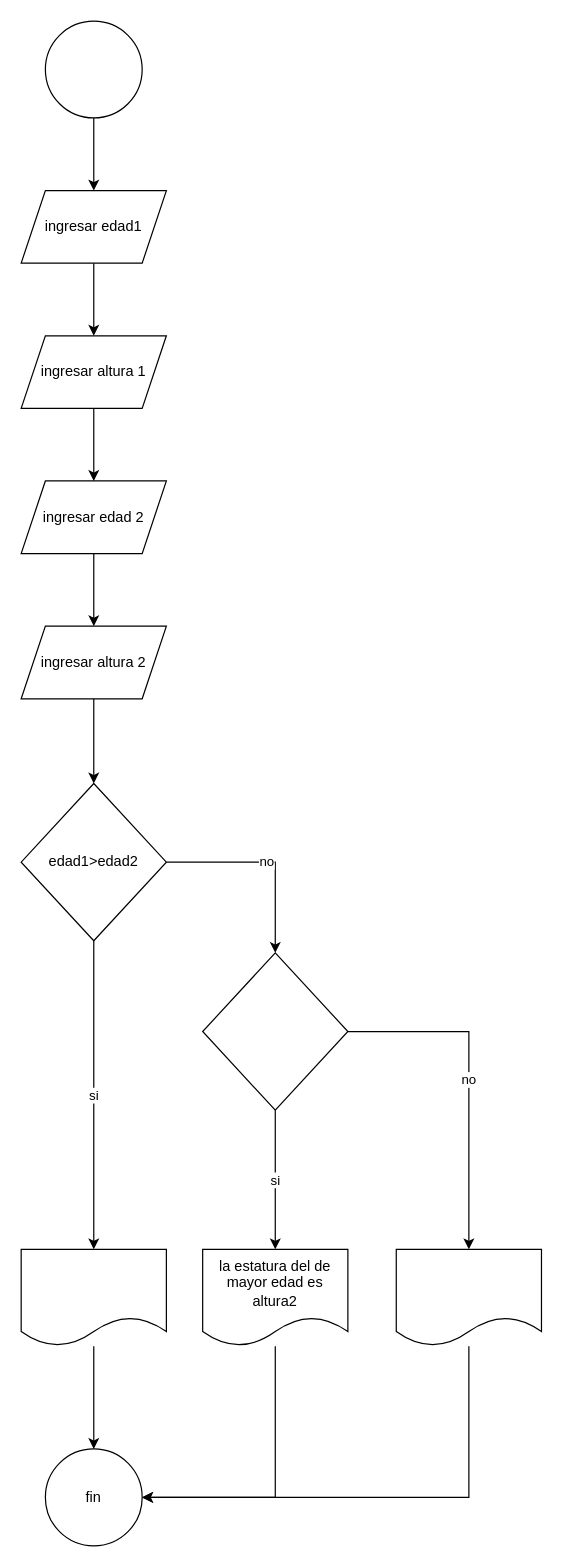
This 563x1567 diagram has some shape labels left out. Each missing label, with the centre of its shape:
"ambos tienen la misma altura" goes at (468,1297).
"edad2> edad1" goes at (274,1031).
"inicio" goes at (93,69).
"la estatura del de mayor edad es altura1" goes at (93,1297).
